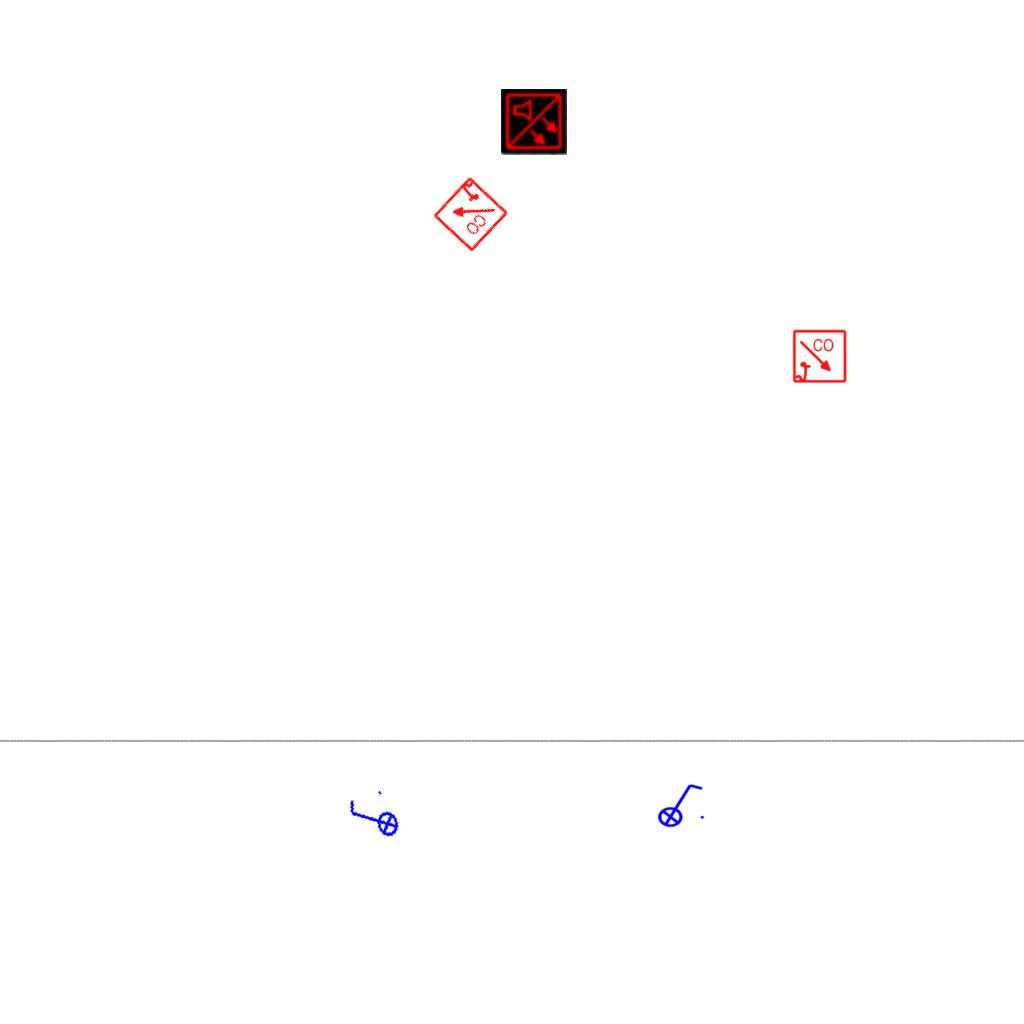Ausschalter_beleuchtet: (342, 785, 404, 853), (651, 780, 707, 828)
OKW_Multisensormelder_(Kombination_optischer_Rauch-Kahlenmonoxid_Waerme-Melder): (501, 89, 567, 155)
ROA_Rauchmelder_optisch_mit_Signalgeber_(Sockelsirene): (430, 174, 510, 254), (792, 329, 848, 385)
